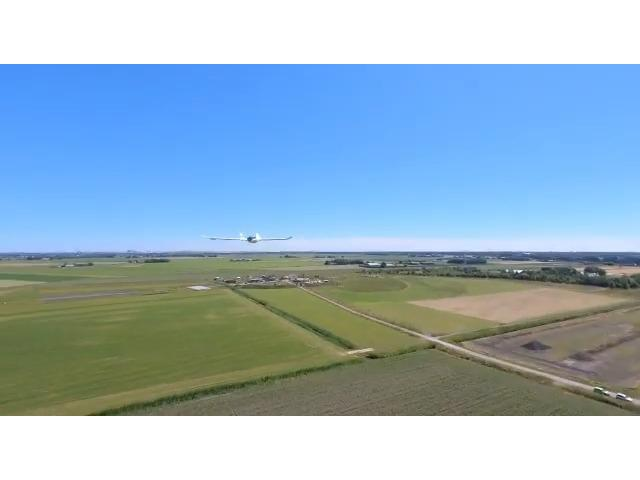Anti-Drone: (194, 211, 302, 265)
